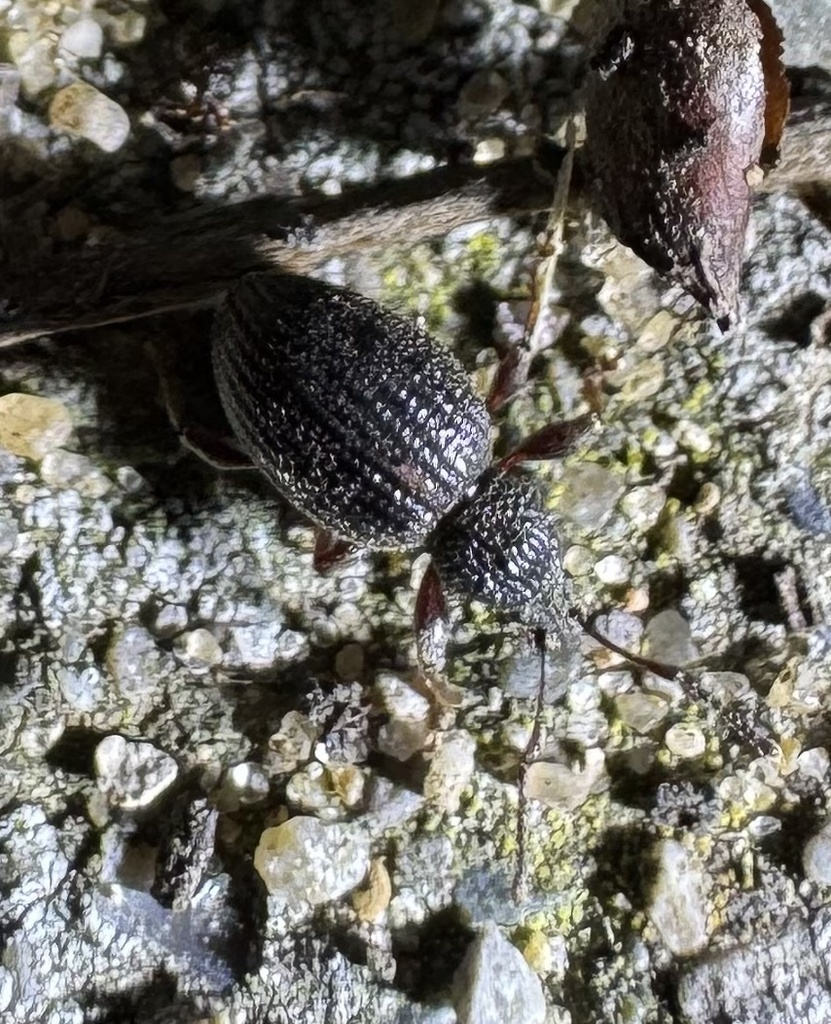weevils: (78, 118, 773, 851)
